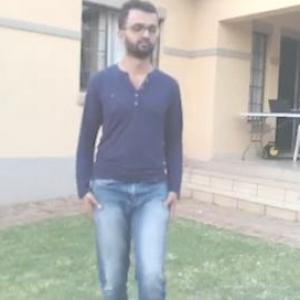follow: (87, 13, 183, 299)
